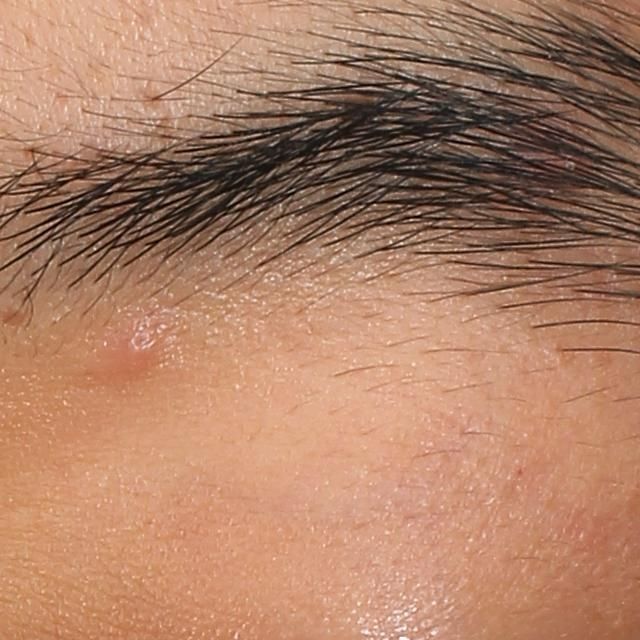papule: (116, 330, 163, 372)
